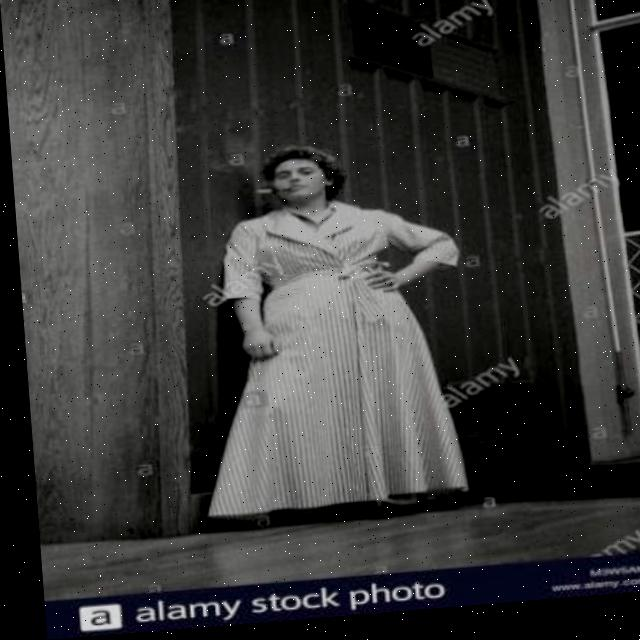cigarette: (251, 191, 278, 200)
